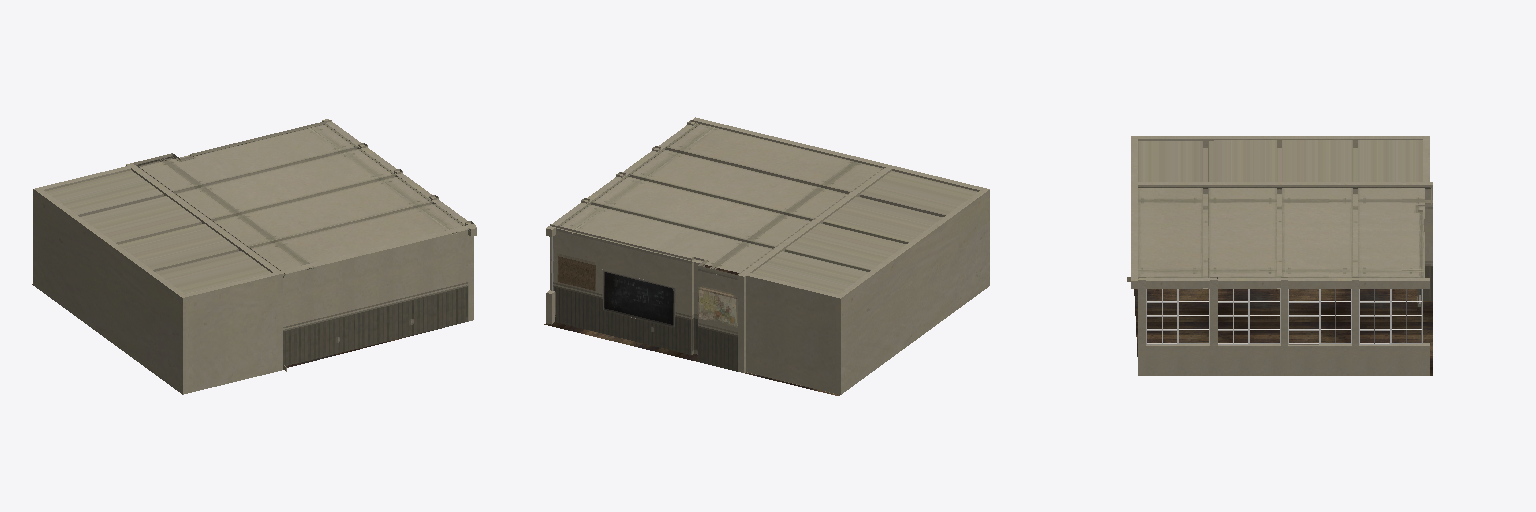
3 renders of one model, left to right at view 1: azimuth 30°, elevation 25°; view 2: azimuth 150°, elevation 25°; view 3: azimuth 270°, elevation 25°, orthographic.
Size of the model in its own units: 9.45 by 2.95 by 8.5.
1 materials, 1 textured.